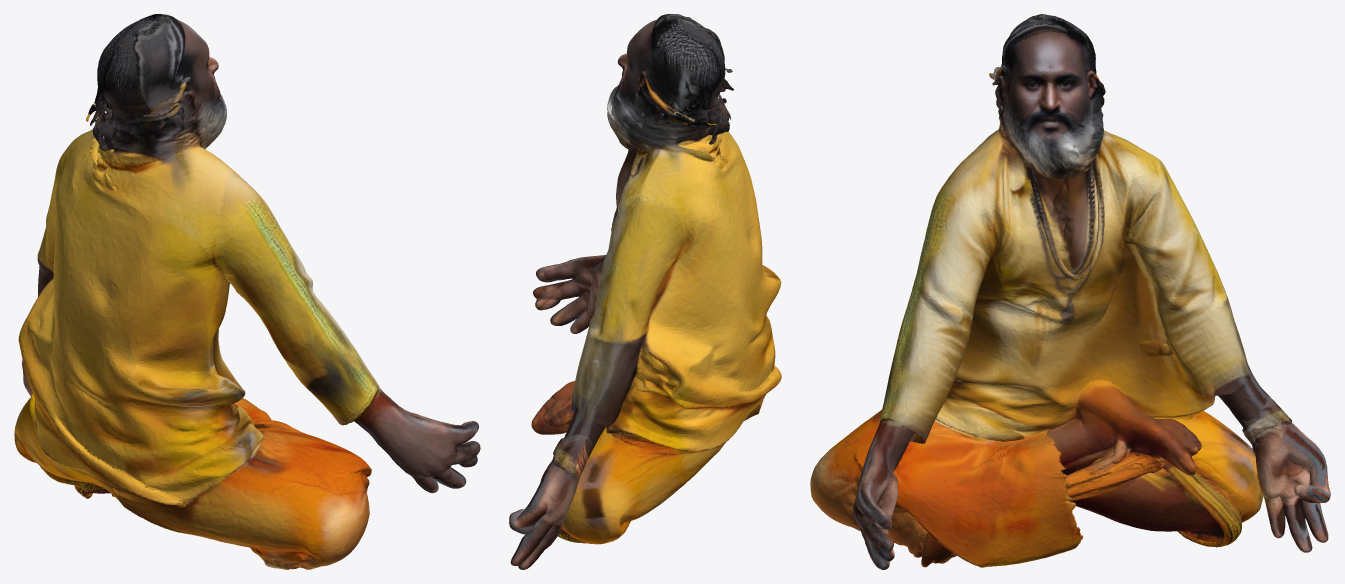
File: modelo12.glb
The picture shows the model from 3 angles, left to right: view 1: azimuth 30°, elevation 25°; view 2: azimuth 150°, elevation 25°; view 3: azimuth 270°, elevation 25°; orthographic projection. The views are drawn at different scales.
Visible parts, largest first — view 1: tripo_node_d1051819-2507-41e3-b3db-d7ae666f3604; view 2: tripo_node_d1051819-2507-41e3-b3db-d7ae666f3604; view 3: tripo_node_d1051819-2507-41e3-b3db-d7ae666f3604.
Boxes of the visible parts, box(x1,y1,x2,y2) form: tripo_node_d1051819-2507-41e3-b3db-d7ae666f3604: box(14, 14, 480, 569); tripo_node_d1051819-2507-41e3-b3db-d7ae666f3604: box(509, 14, 781, 569); tripo_node_d1051819-2507-41e3-b3db-d7ae666f3604: box(810, 14, 1330, 569).
Bounding box in the file's own units: 0.6492 × 0.9999 × 0.9115.
Materials: 1 (1 with a texture image).
